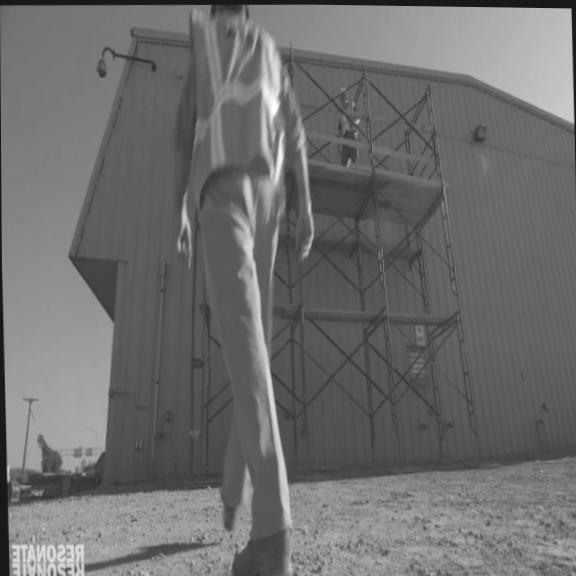safety_vest: (181, 6, 291, 220), (336, 100, 356, 136)
